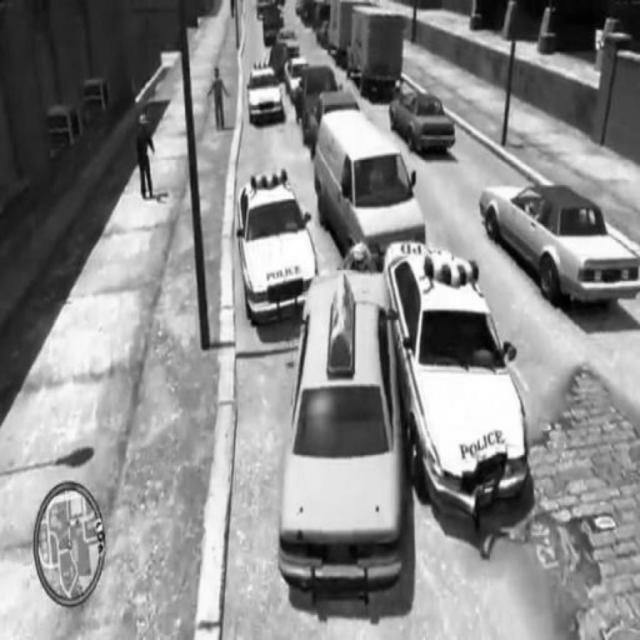accident: (276, 244, 528, 606)
person: (125, 105, 161, 198), (198, 60, 234, 133)
vehicle: (486, 176, 640, 306), (311, 107, 431, 247), (232, 170, 318, 318), (342, 4, 412, 96), (388, 88, 461, 152), (242, 59, 289, 130)
